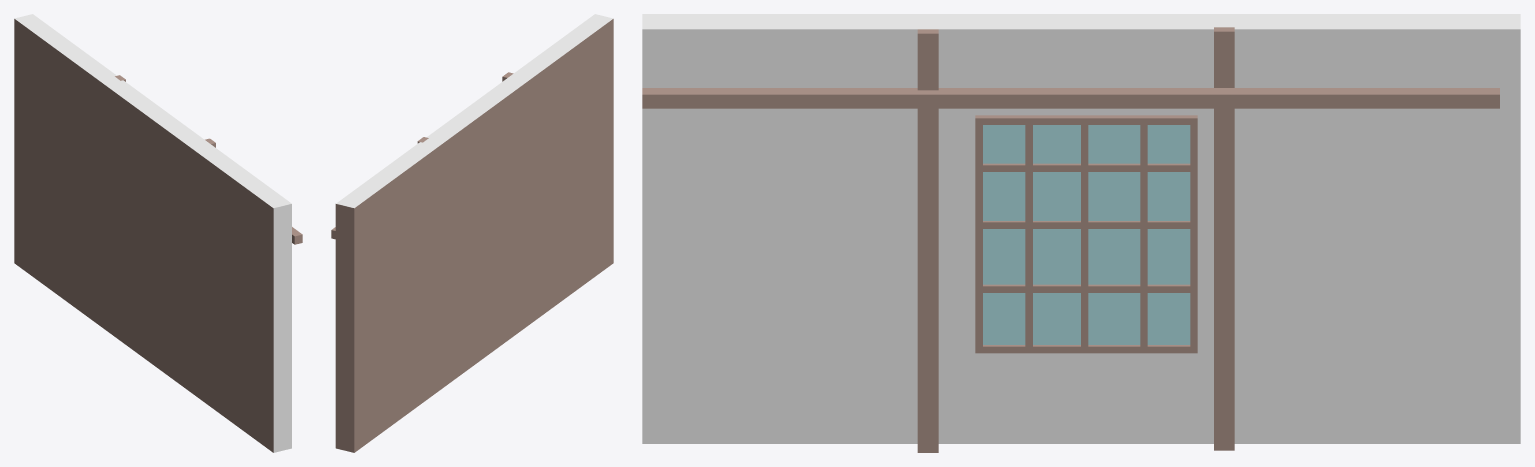
File: room.fbx
3 renders of one model, left to right at view 1: azimuth 30°, elevation 25°; view 2: azimuth 150°, elevation 25°; view 3: azimuth 270°, elevation 25°, orthographic. The views are drawn at different scales.
Visible parts, largest first — view 1: mesh_1326630912, mesh_516764482; view 2: mesh_1326630912, mesh_516764482; view 3: mesh_1326630912, mesh_516764482, mesh_689447950, mesh_1132288659, mesh_1140511903, mesh_146221792, mesh_1239028630, mesh_451362382, mesh_474313032, mesh_90950687, mesh_704838567, mesh_440018144 (+4 smaller).
Part boxes in pixels (x1,y1,x2,y2): mesh_1326630912: (14,14,197,384); mesh_516764482: (180,135,291,452); mesh_1326630912: (335,82,519,452); mesh_516764482: (502,14,613,331); mesh_1326630912: (959,14,1520,443); mesh_516764482: (642,14,959,443); mesh_689447950: (983,125,1190,344); mesh_1132288659: (642,88,1499,108); mesh_1140511903: (917,29,938,452); mesh_146221792: (1214,27,1234,450); mesh_1239028630: (983,115,1190,124); mesh_451362382: (975,115,982,353); mesh_474313032: (1190,115,1197,353); mesh_90950687: (983,163,1190,171); mesh_704838567: (983,345,1190,353); mesh_440018144: (1025,120,1032,348).
Size of the model in its own units: 40.37 by 327 by 620.
